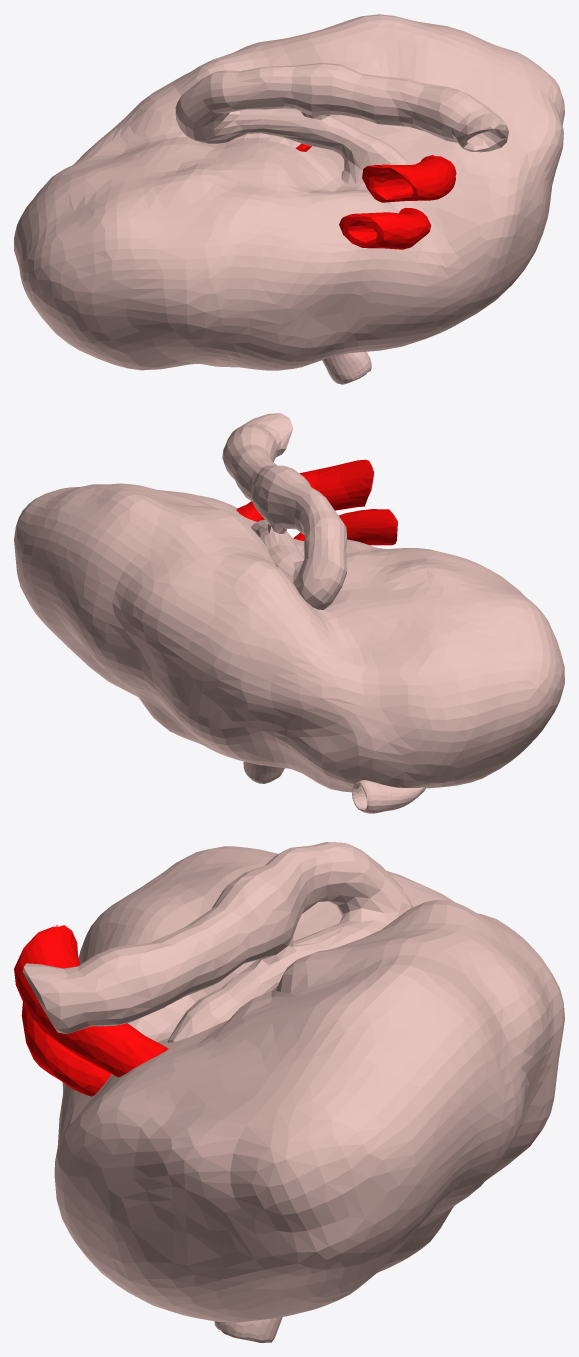
Rendered from NIH_F_Lymph_Node_0.4.glb.
The picture shows the model from 3 angles, top to bottom: view 1: azimuth 30°, elevation 25°; view 2: azimuth 150°, elevation 25°; view 3: azimuth 270°, elevation 25°; orthographic projection. The views are drawn at different scales.
Visible parts, largest first — view 1: Yao_capsule_of_lymph_node, Yao_efferent_lymph_node, Yao_blood_vasculature, Yao_afferent_lymphatic_vessel; view 2: Yao_capsule_of_lymph_node, Yao_efferent_lymph_node, Yao_blood_vasculature, Yao_afferent_lymphatic_vessel; view 3: Yao_capsule_of_lymph_node, Yao_efferent_lymph_node, Yao_blood_vasculature, Yao_afferent_lymphatic_vessel.
Part boxes in pixels (x1,y1,x2,y2): Yao_capsule_of_lymph_node: (14,14,564,370); Yao_efferent_lymph_node: (175,62,508,184); Yao_blood_vasculature: (295,143,456,249); Yao_afferent_lymphatic_vessel: (322,351,371,384); Yao_capsule_of_lymph_node: (14,483,564,792); Yao_efferent_lymph_node: (222,413,346,609); Yao_blood_vasculature: (236,459,397,545); Yao_afferent_lymphatic_vessel: (243,761,425,813); Yao_capsule_of_lymph_node: (54,846,564,1322); Yao_efferent_lymph_node: (23,842,413,1042); Yao_blood_vasculature: (14,925,168,1096); Yao_afferent_lymphatic_vessel: (214,1317,282,1342).
Bounding box in the file's own units: 0.0196 × 0.0113 × 0.0125.
